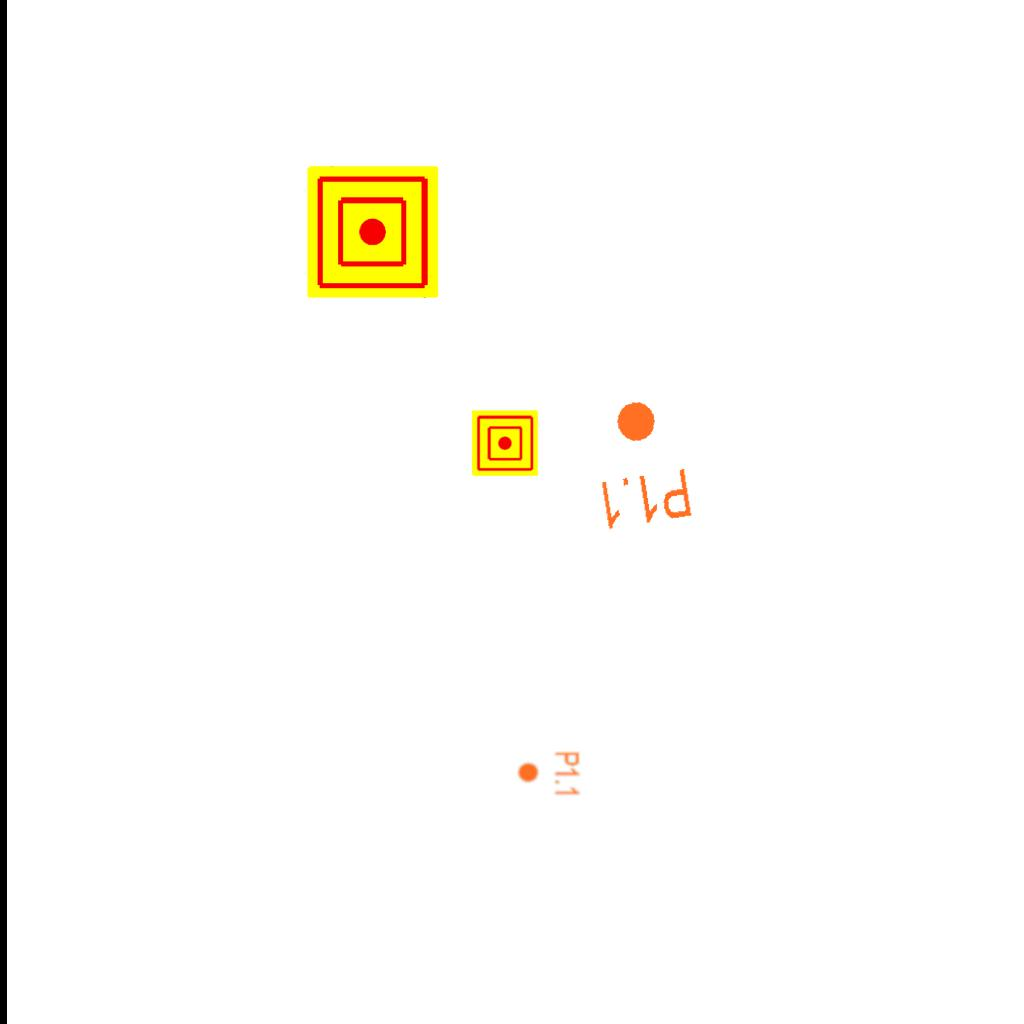Downlight_LED_Einbauleuchten_Flur: (583, 392, 696, 534), (517, 751, 581, 797)
NAM-Nichtautomatischer_Melder: (307, 166, 439, 298), (472, 410, 538, 476)
